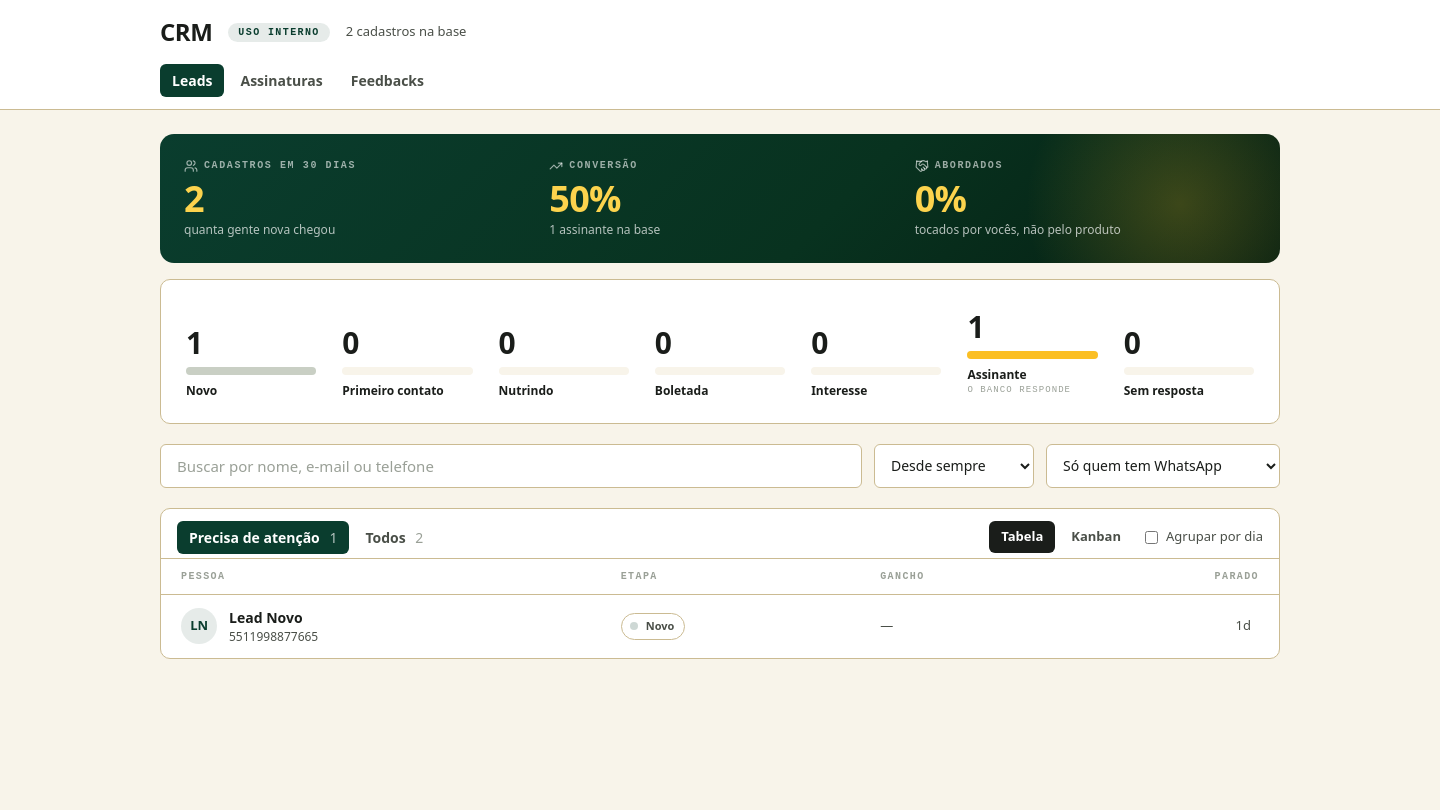
it: PainelCrm · o recorte diz quanta gente ele esconde › o número segue os outros filtros, e não a base crua
This screenshot has width=1440, height=810.
Type "Já Assina" into the search field named "Buscar cadastro" at (511, 466), box [160,444,862,488]
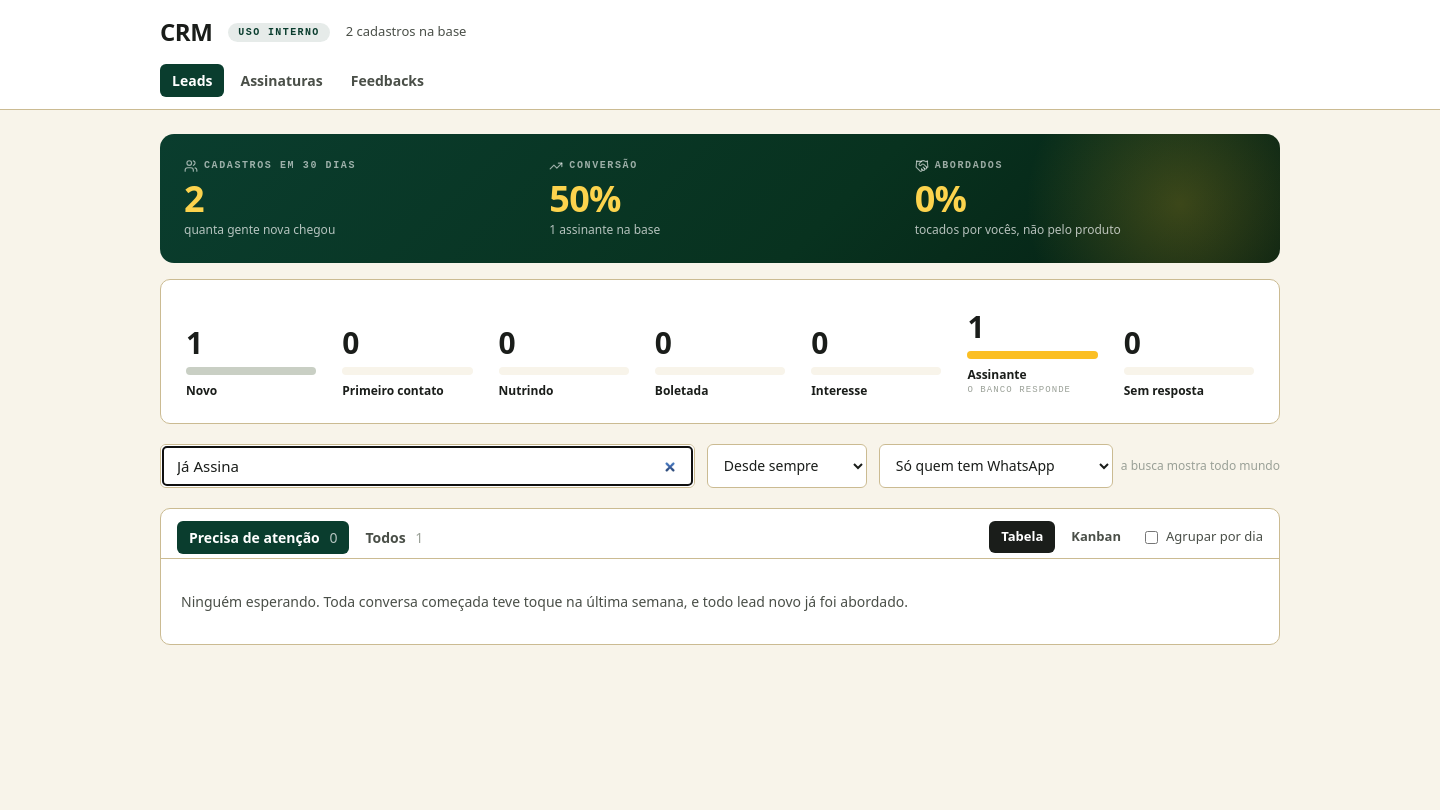
Result: the radio button labelled "Todos 1" is shown at [353,520,435,554]
Result: the radio button labelled "Precisa de atenção 0" is shown at [177,520,349,554]
